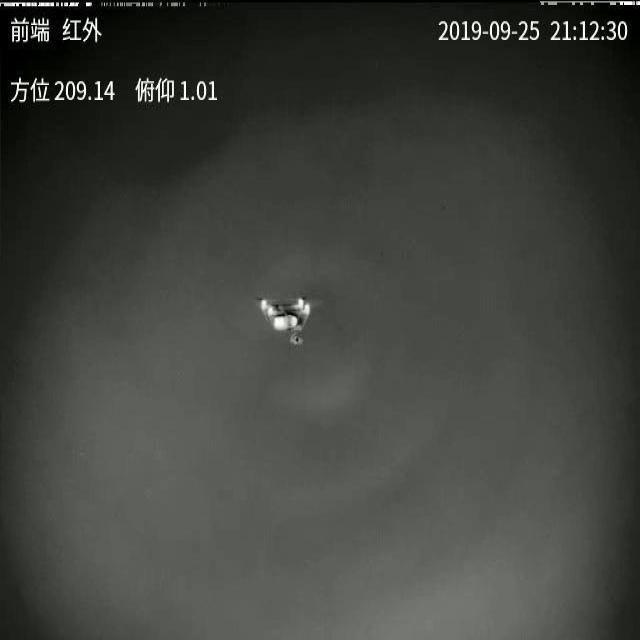drone: (250, 289, 327, 349)
